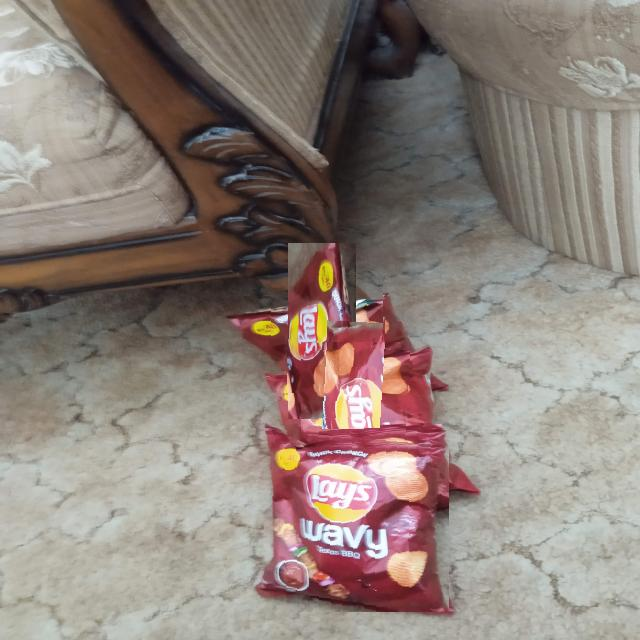Plastic: (267, 430, 449, 612), (261, 270, 383, 393), (301, 342, 411, 452)
